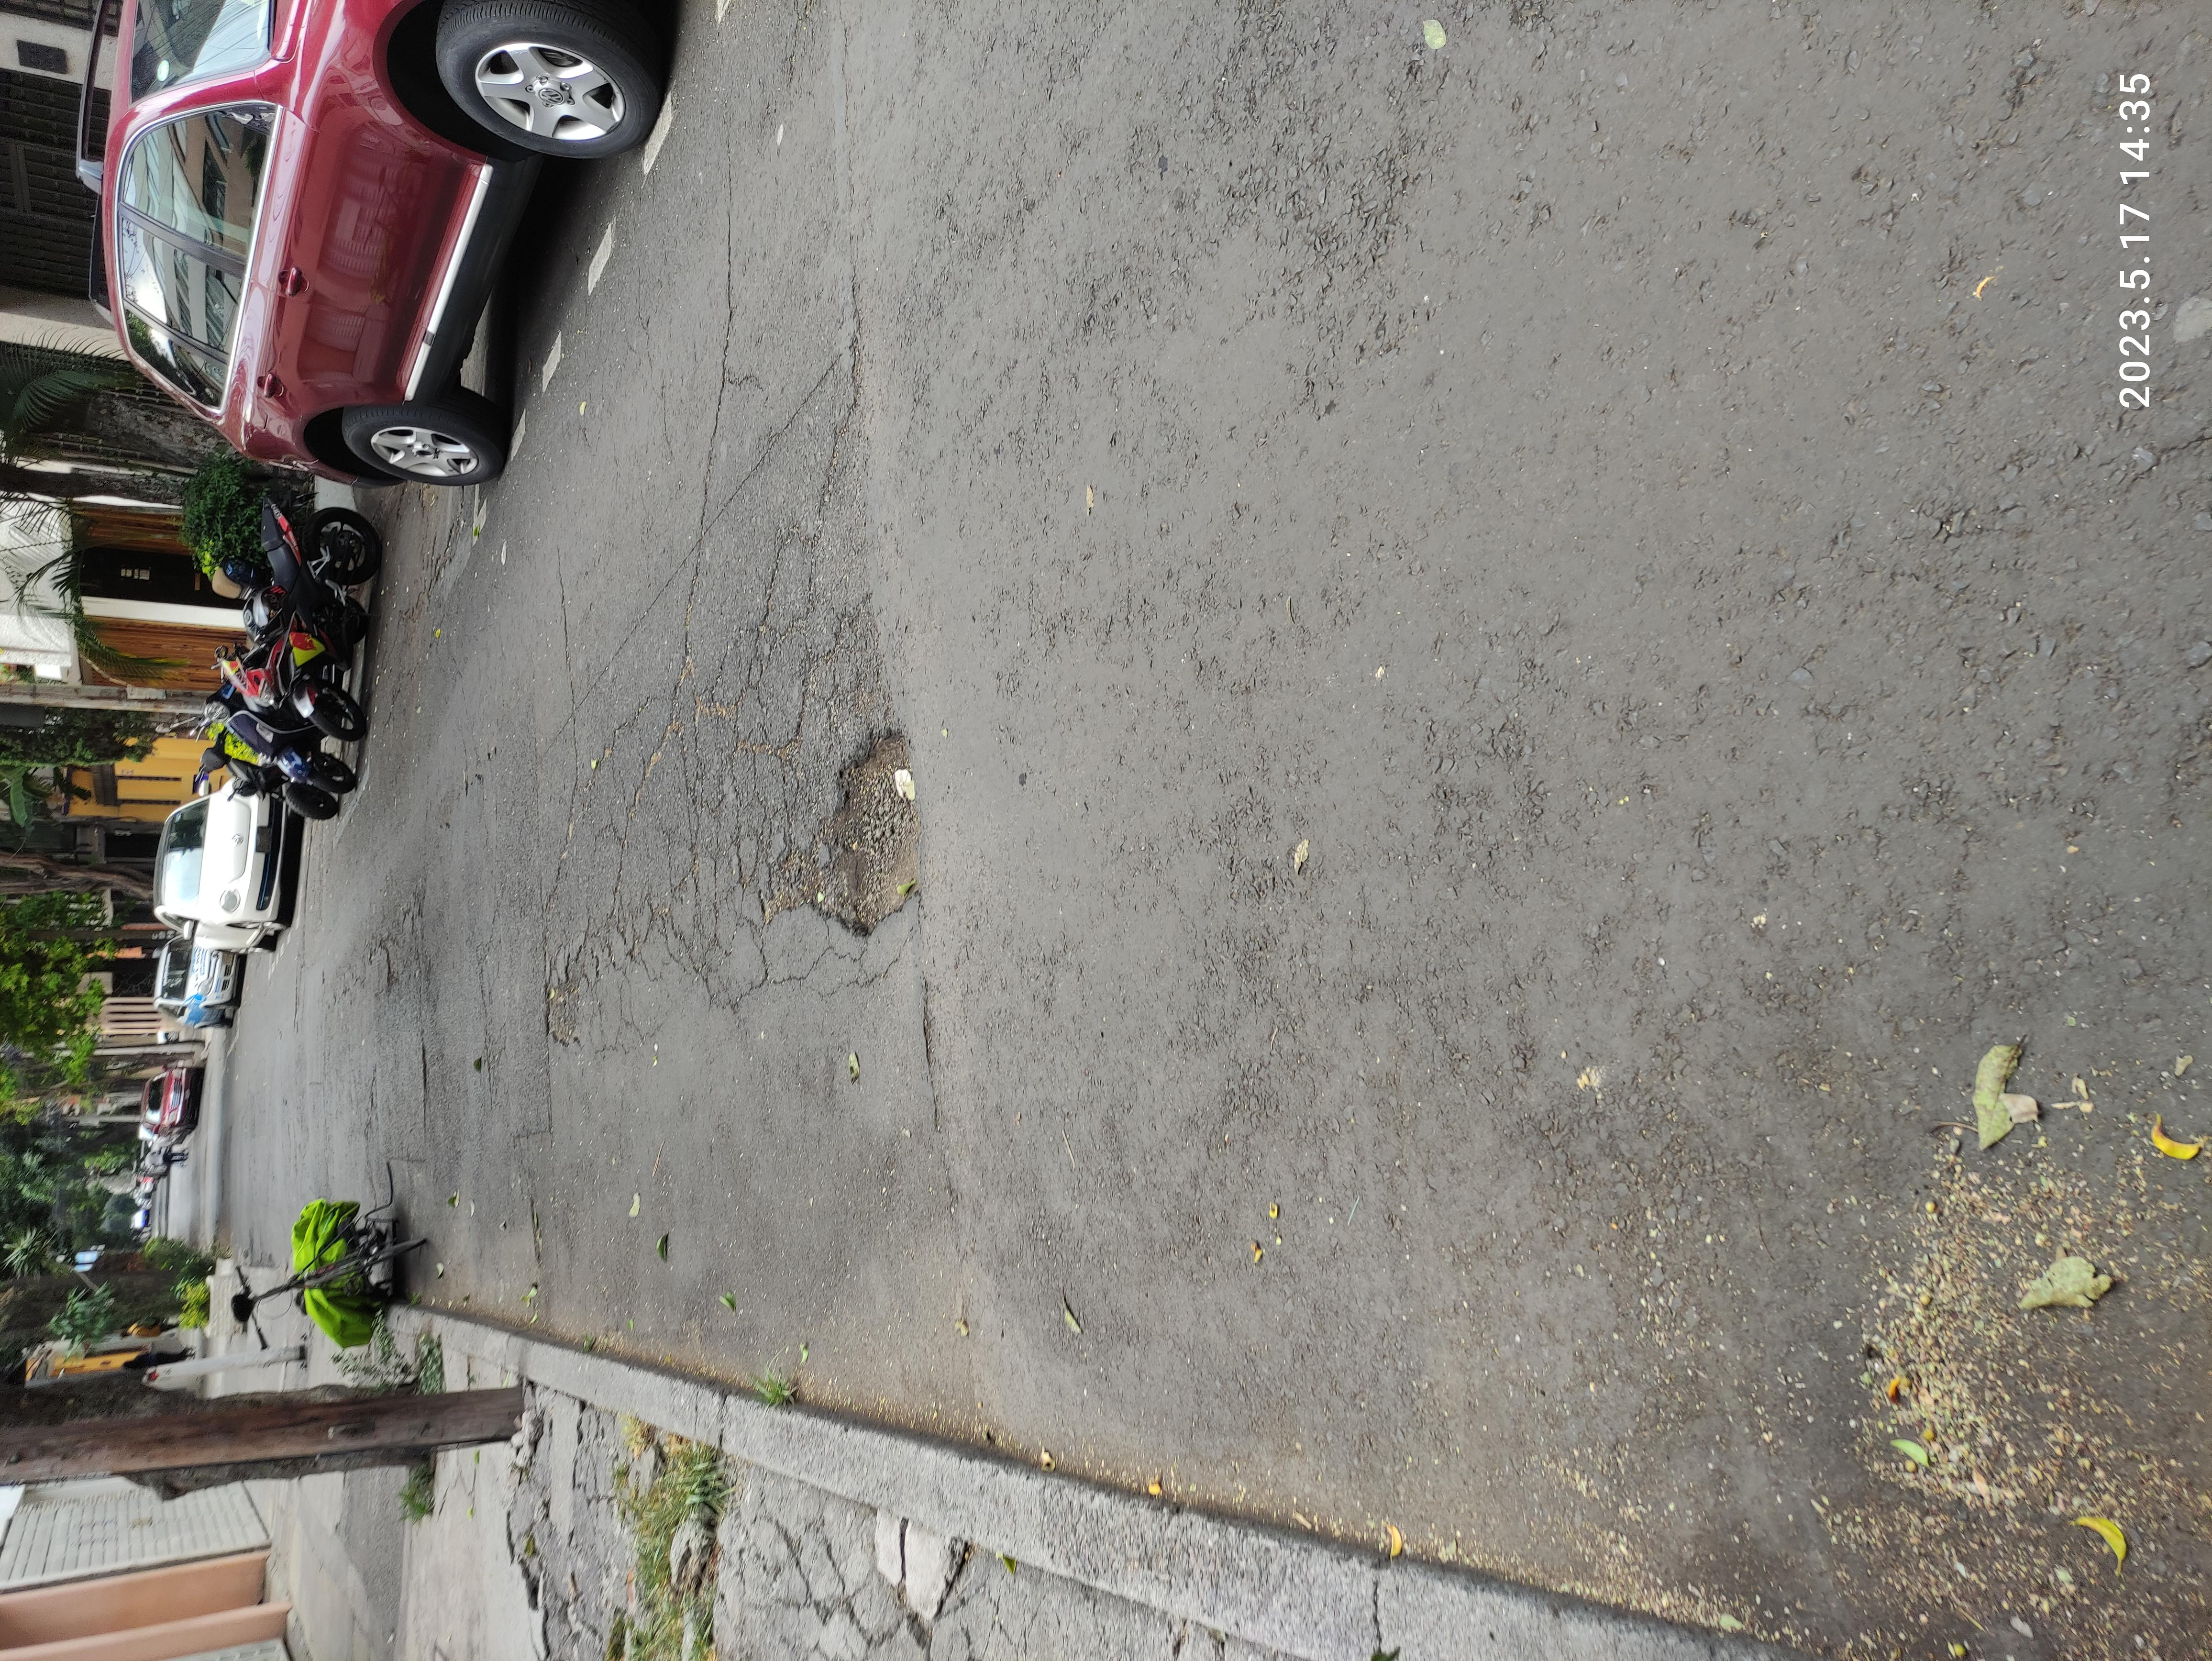alligator-crack: (851, 450, 1332, 610), (1283, 554, 1510, 657), (730, 354, 1008, 384), (864, 300, 1047, 331)
crack: (1344, 503, 2068, 570), (1000, 406, 1490, 441), (1513, 606, 1863, 653), (538, 682, 911, 722), (1402, 314, 1515, 344), (1233, 286, 1319, 312), (1330, 287, 1415, 310), (685, 314, 858, 324), (719, 404, 807, 422), (838, 216, 936, 231), (683, 382, 718, 417), (949, 223, 1020, 233)
pothole: (962, 621, 1254, 697), (812, 406, 956, 443), (890, 284, 971, 303), (524, 397, 619, 408), (733, 277, 781, 286), (1526, 314, 1565, 325)
